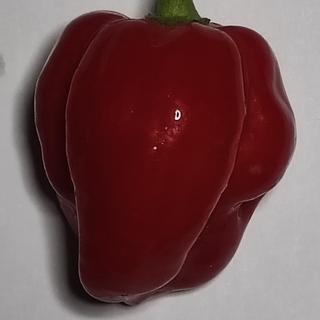Grade-A: (28, 3, 299, 308)
